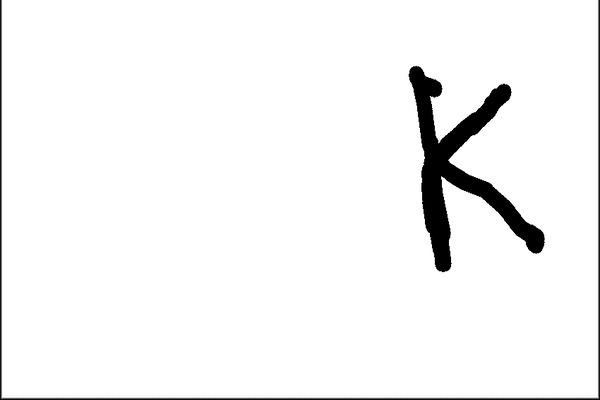K: (400, 58, 550, 281)
